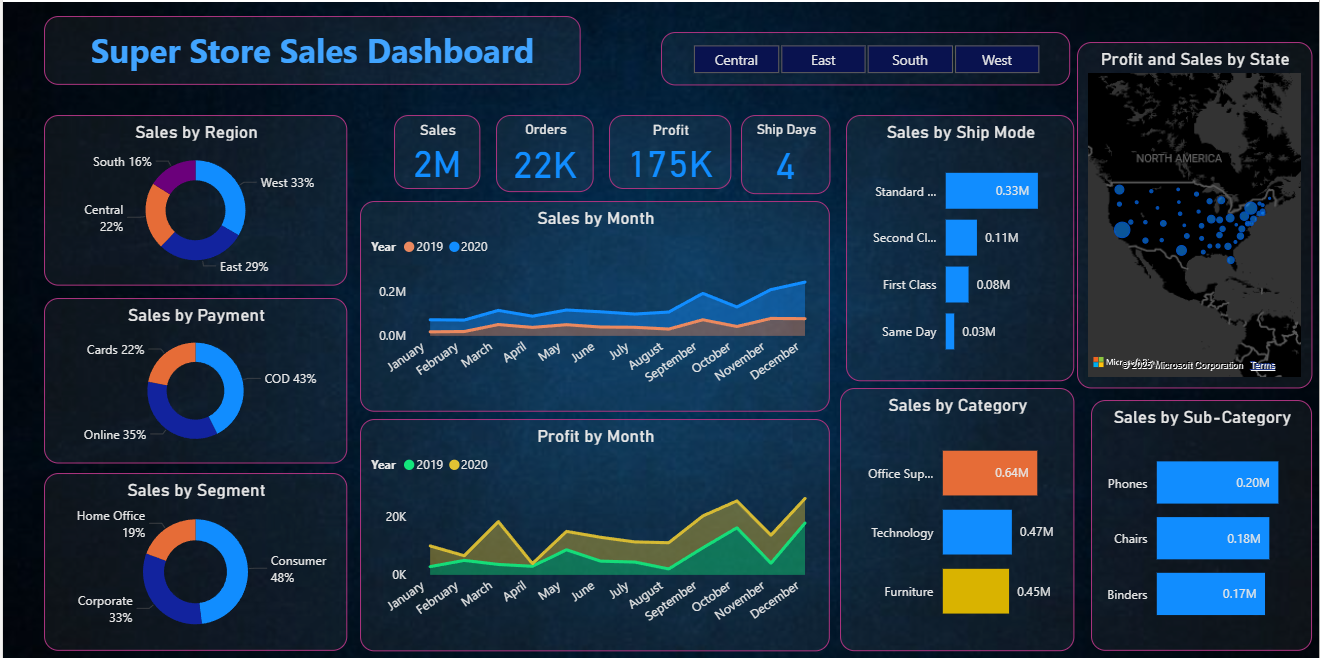

This screenshot's page, from the dashboard's own definition file:
{"tool":"powerbi","page":{"name":"Page 1","canvas":[1280,720],"ordinal":0},"visuals":[{"type":"clusteredBarChart","title":"Sales by Category","fields":{"Category":["SuperStore_Sales_Dataset.Category"],"Y":["Sum(SuperStore_Sales_Dataset.Sales)"]},"box":[814.1,413.4,227.6,255.8],"z":0},{"type":"clusteredBarChart","title":"Sales by Sub-Category","fields":{"Category":["SuperStore_Sales_Dataset.Sub-Category"],"Y":["Sum(SuperStore_Sales_Dataset.Sales)"]},"box":[1058.2,425,215,244.1],"z":1000},{"type":"clusteredBarChart","title":"Sales by Ship Mode","fields":{"Category":["SuperStore_Sales_Dataset.Ship Mode"],"Y":["Sum(SuperStore_Sales_Dataset.Sales)"]},"box":[819.9,147.8,221.8,258.7],"z":2000},{"type":"stackedAreaChart","title":"Sales by Month","fields":{"Y":["Sum(SuperStore_Sales_Dataset.Sales)"],"Category":["SuperStore_Sales_Dataset.Order Date.Variation.Date Hierarchy.Month","SuperStore_Sales_Dataset.Order Date.Variation.Date Hierarchy.Day"],"Series":["SuperStore_Sales_Dataset.Order Date.Variation.Date Hierarchy.Year"]},"box":[347.2,231.5,457.1,205.2],"z":3000},{"type":"map","title":"Profit and Sales by State","fields":{"Category":["SuperStore_Sales_Dataset.State"],"Size":["Sum(SuperStore_Sales_Dataset.Sales)"]},"box":[1044.6,76.8,228.6,336.5],"z":4000},{"type":"stackedAreaChart","title":"Profit by Month","fields":{"Category":["SuperStore_Sales_Dataset.Order Date.Variation.Date Hierarchy.Month","SuperStore_Sales_Dataset.Order Date.Variation.Date Hierarchy.Day"],"Series":["SuperStore_Sales_Dataset.Order Date.Variation.Date Hierarchy.Year"],"Y":["Sum(SuperStore_Sales_Dataset.Profit)"]},"box":[347.2,443.5,457.1,225.7],"z":5000},{"type":"donutChart","title":"Sales by Segment","fields":{"Category":["SuperStore_Sales_Dataset.Segment"],"Y":["Sum(SuperStore_Sales_Dataset.Sales)"]},"box":[39.9,496,294.7,173.1],"z":6000},{"type":"donutChart","title":"Sales by Payment ","fields":{"Category":["SuperStore_Sales_Dataset.Payment Mode"],"Y":["Sum(SuperStore_Sales_Dataset.Sales)"]},"box":[39.9,325.8,294.7,161.5],"z":7000},{"type":"slicer","fields":{"Values":["SuperStore_Sales_Dataset.Region"]},"box":[640.4,66.7,398,51.5],"z":8000},{"type":"textbox","box":[39.9,51.6,522.3,67.1],"z":9000},{"type":"card","title":"Sales","fields":{"Values":["Sum(SuperStore_Sales_Dataset.Sales)"]},"box":[380.3,147.8,83.6,72],"z":10000},{"type":"card","title":"Orders","fields":{"Values":["Sum(SuperStore_Sales_Dataset.Quantity)"]},"box":[479.5,147.8,95.3,74.9],"z":11000},{"type":"card","title":"Profit","fields":{"Values":["Sum(SuperStore_Sales_Dataset.Profit)"]},"box":[589.4,147.8,118.7,72],"z":12000},{"type":"card","title":"Ship Days","fields":{"Values":["Avg(SuperStore_Sales_Dataset.AvgDelivery)"]},"box":[717.8,147.8,86.6,76.8],"z":13000},{"type":"donutChart","title":"Sales by Region","fields":{"Category":["SuperStore_Sales_Dataset.Region"],"Y":["Sum(SuperStore_Sales_Dataset.Sales)"]},"box":[39.9,147.8,294.7,166.3],"z":13001}]}

Visuals, with their boxes on the page's 1280x720 design canvas (x1, y1, x2, y2). These are canvas units, not pixel positions in the 1320x658 screenshot, which may show the page scaled, cropped or inside an application window:
"Sales by Category" clusteredBarChart: 814:413:1042:669
"Sales by Sub-Category" clusteredBarChart: 1058:425:1273:669
"Sales by Ship Mode" clusteredBarChart: 820:148:1042:406
"Sales by Month" stackedAreaChart: 347:232:804:437
"Profit and Sales by State" map: 1045:77:1273:413
"Profit by Month" stackedAreaChart: 347:444:804:669
"Sales by Segment" donutChart: 40:496:335:669
"Sales by Payment " donutChart: 40:326:335:487
slicer - SuperStore_Sales_Dataset.Region: 640:67:1038:118
textbox: 40:52:562:119
"Sales" card: 380:148:464:220
"Orders" card: 480:148:575:223
"Profit" card: 589:148:708:220
"Ship Days" card: 718:148:804:225
"Sales by Region" donutChart: 40:148:335:314
